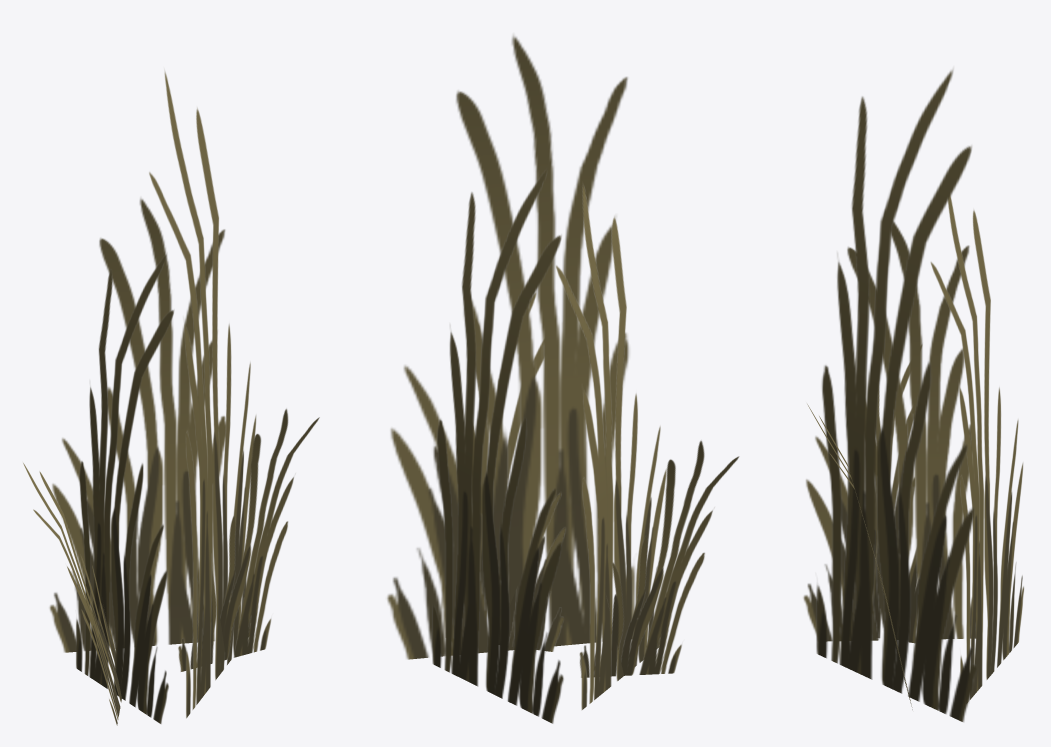
The model's file is grasstuft_test2_v1.glb.
3 views of the same model, side by side, from view 1: azimuth 30°, elevation 25°; view 2: azimuth 150°, elevation 25°; view 3: azimuth 270°, elevation 25° (orthographic). The views are drawn at different scales.
Parts seen in each view (by area): view 1: Plane.001; view 2: Plane.001; view 3: Plane.001.
Boxes of the visible parts, left/top/right/bottom form: Plane.001: left=23, top=70, right=319, bottom=725; Plane.001: left=387, top=35, right=739, bottom=723; Plane.001: left=803, top=69, right=1023, bottom=721.
Bounding box in the file's own units: 1.09 × 2.09 × 0.7375.
1 material, 1 textured.
